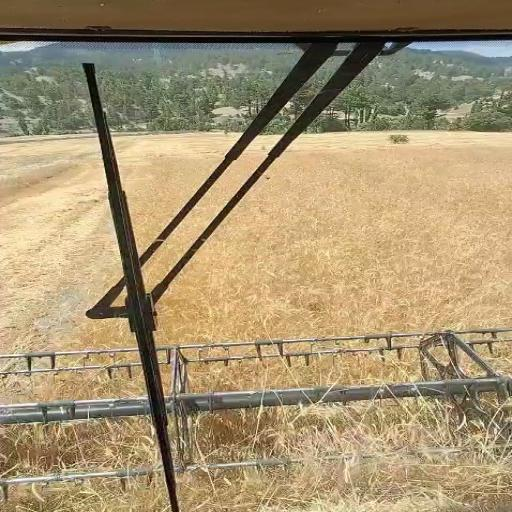bugday: (159, 133, 510, 340), (1, 137, 125, 348), (145, 137, 275, 289), (117, 134, 237, 252)
